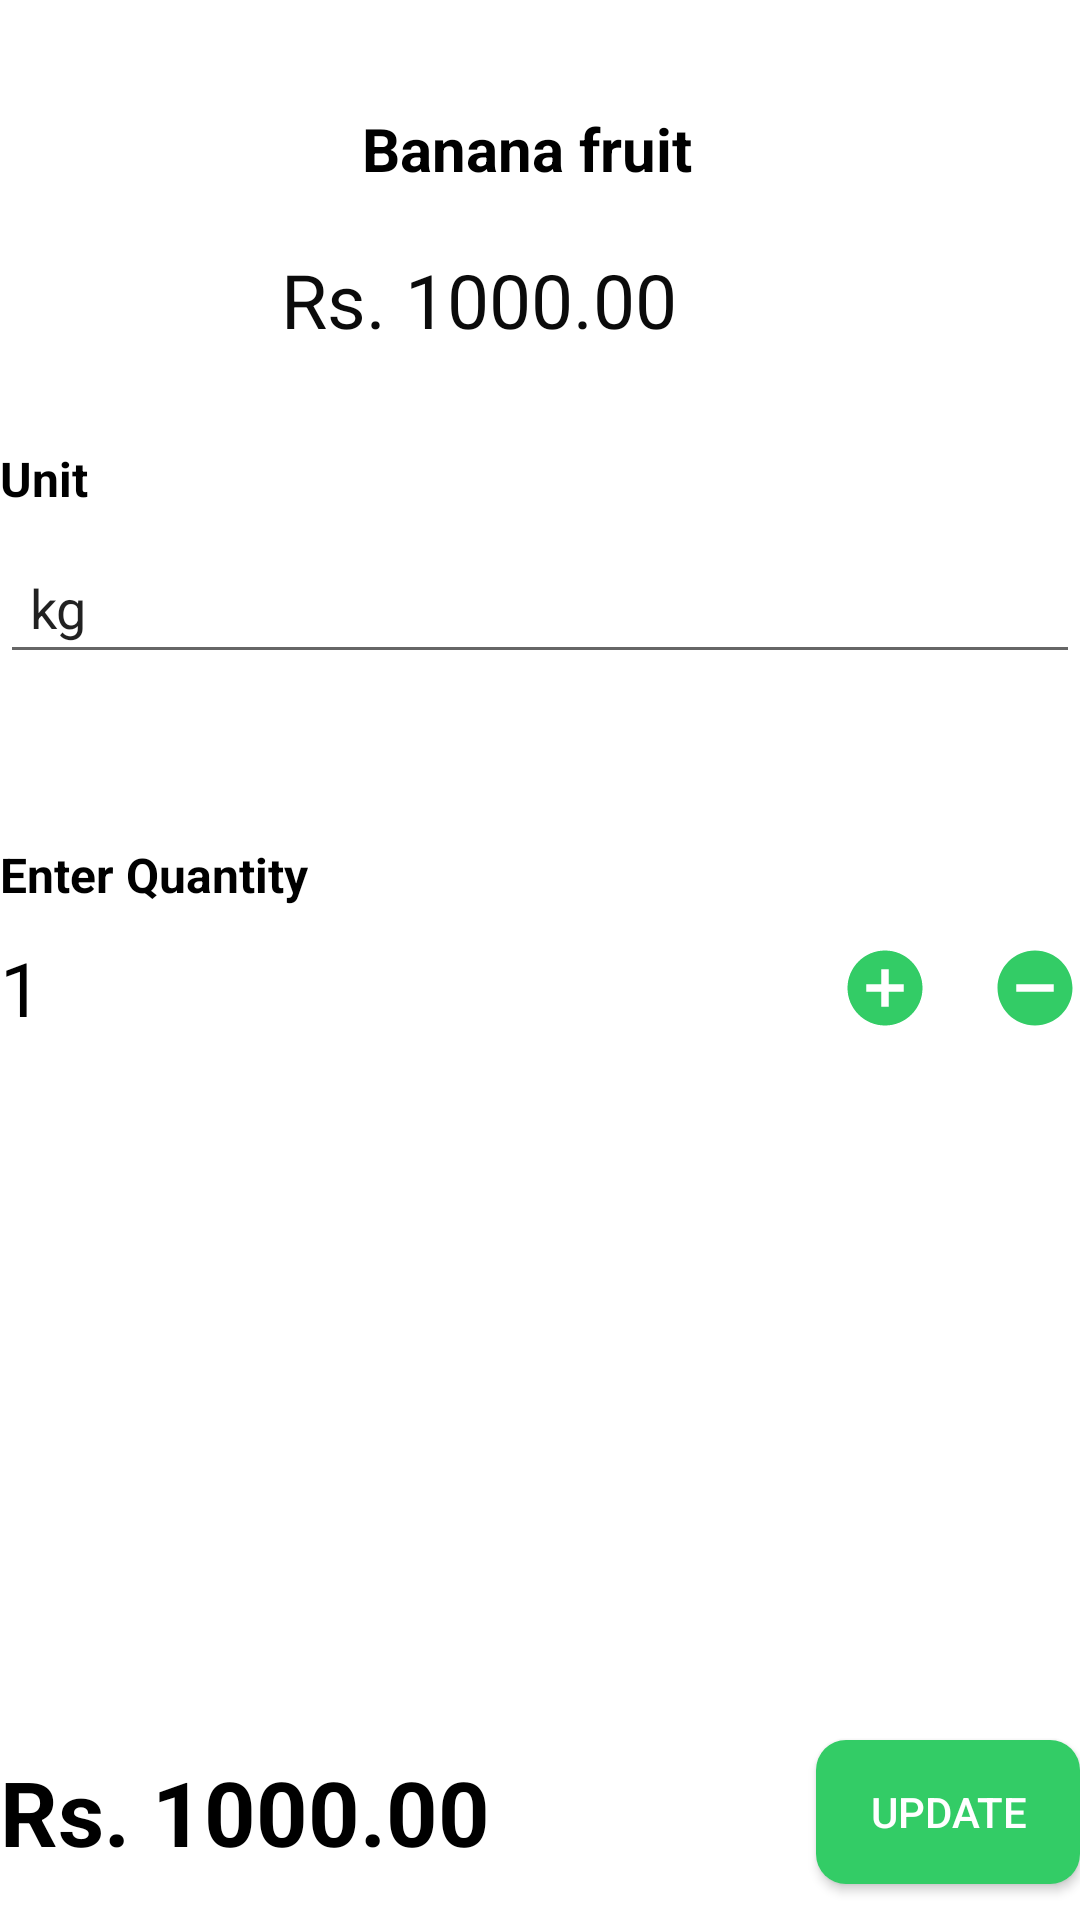

Where to tap for icons on this 1080*1920 app screen, as (x,y):
add circle: (885,988)
remove: (1035,988)
